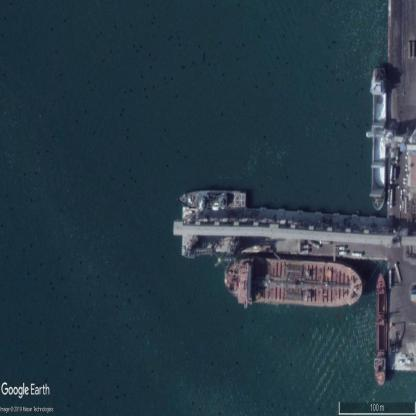ship: (224, 258, 362, 308), (369, 61, 386, 213), (373, 270, 388, 388), (178, 190, 245, 210)
